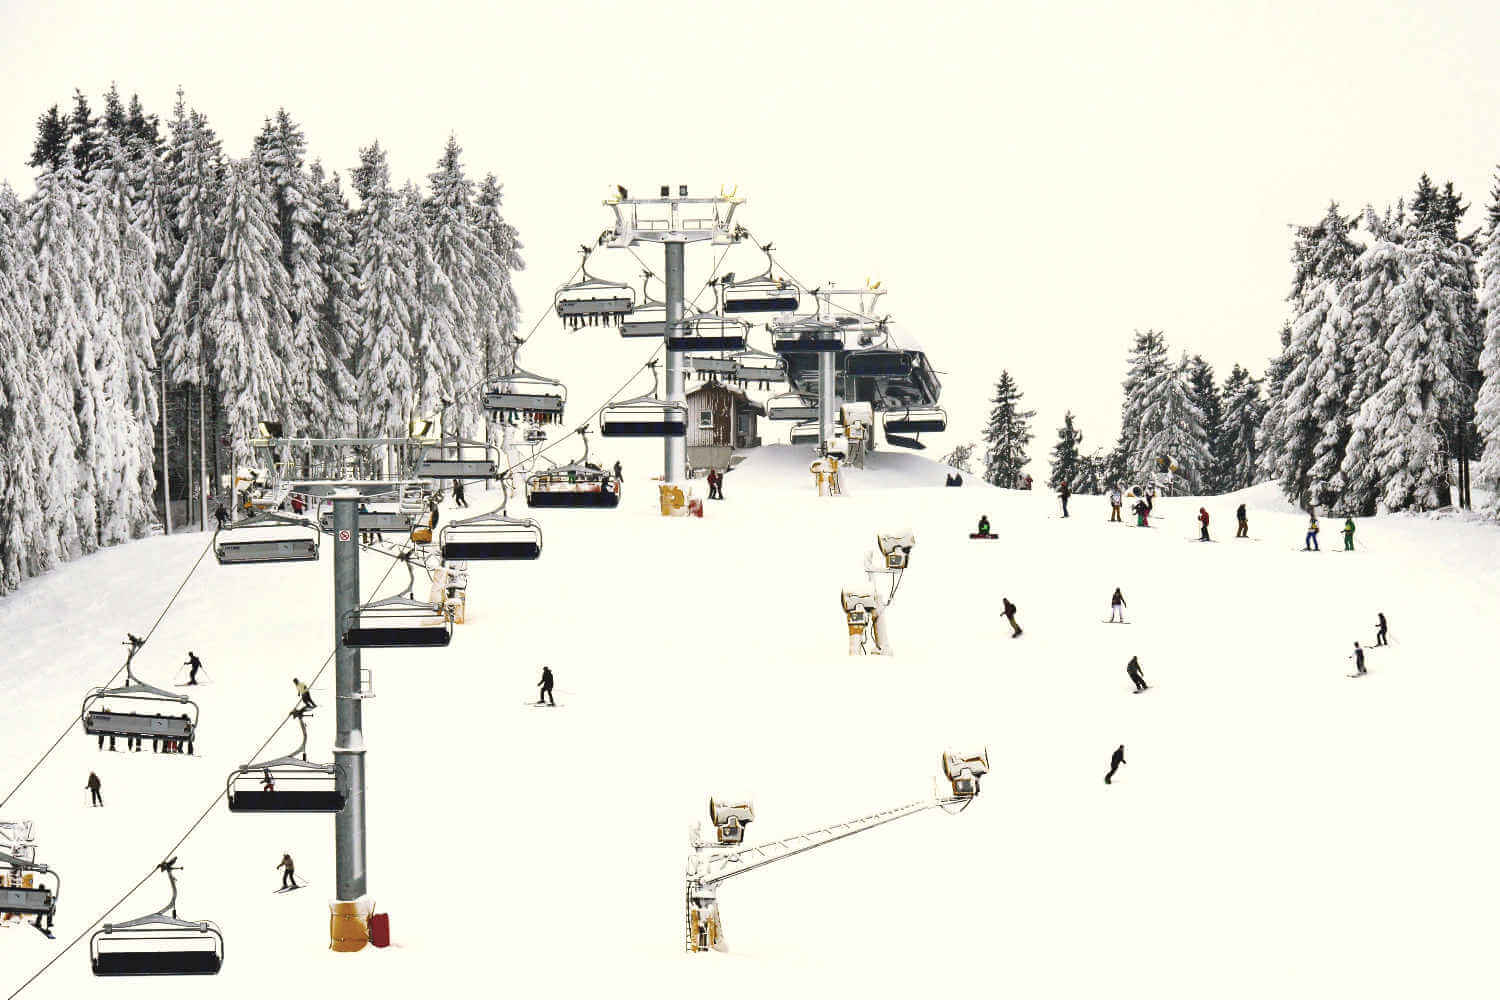skier: (527, 663, 566, 710), (268, 852, 310, 894), (176, 648, 214, 686), (1367, 609, 1397, 648), (1345, 642, 1374, 680), (81, 771, 110, 808)
snowboarder: (1099, 584, 1135, 627), (1123, 651, 1157, 694), (992, 595, 1026, 638), (964, 510, 1006, 540), (1105, 741, 1128, 785)
